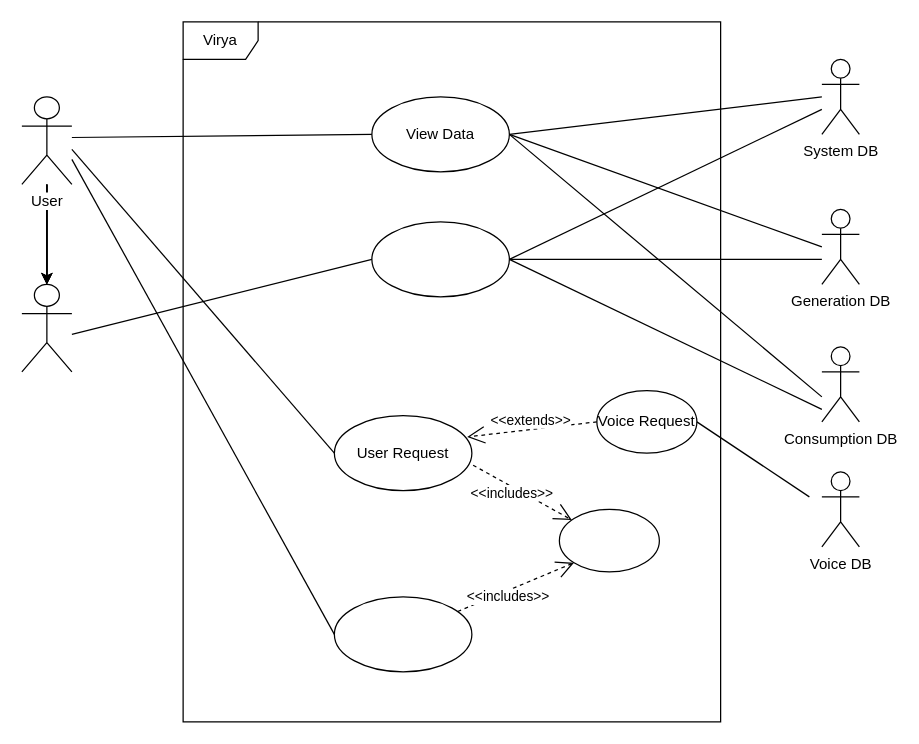
Some shapes in this 919 by 744 pixel diagram are drawn without their labels. The centre of each missing label's shape, as x and y in pixels:
"Admin" goes at (x=46, y=327).
"Get Detailed Report" goes at (x=440, y=259).
"Trigger Lights" goes at (x=402, y=634).
"Update Current" goes at (x=608, y=540).
